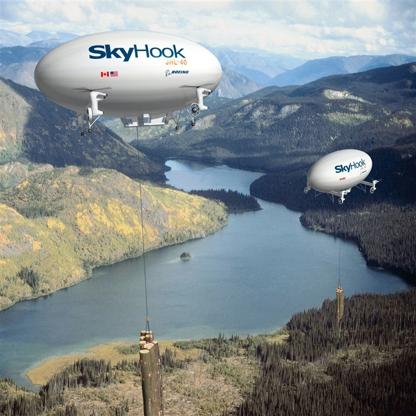Airship: (27, 29, 235, 134), (298, 141, 387, 206)
